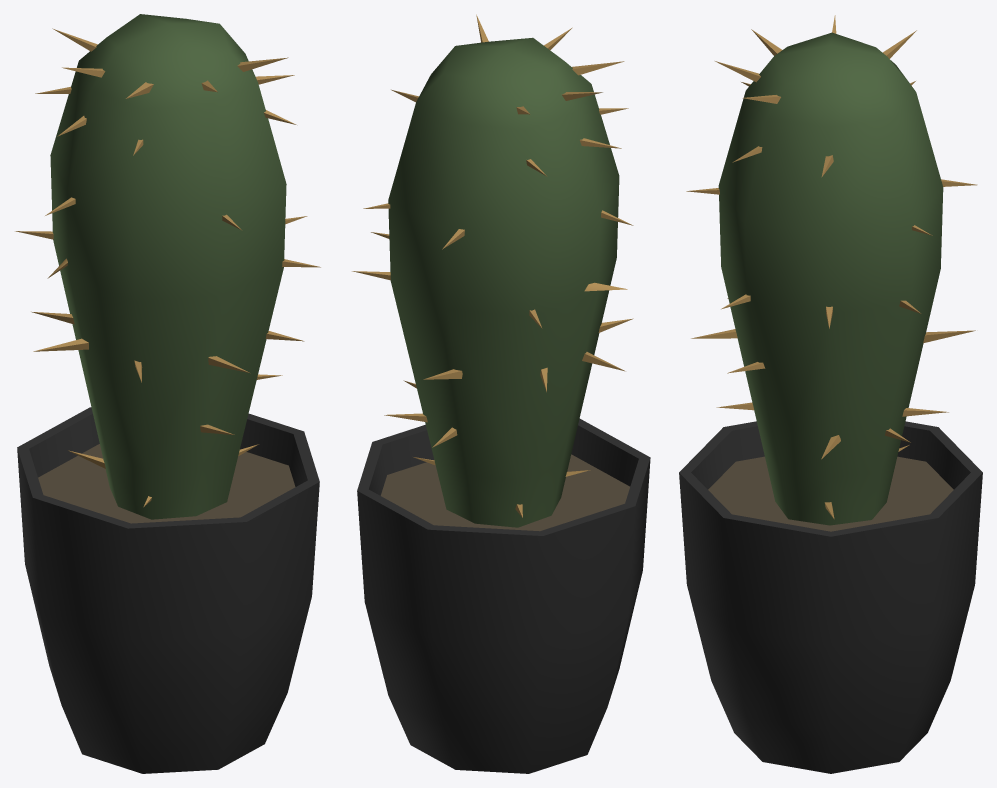
Rendered from Houseplant_3.gltf.
3 views of the same model, side by side, from view 1: azimuth 30°, elevation 25°; view 2: azimuth 150°, elevation 25°; view 3: azimuth 270°, elevation 25° (orthographic). The views are drawn at different scales.
Parts seen in each view (by area): view 1: Houseplant_3; view 2: Houseplant_3; view 3: Houseplant_3.
Part boxes in pixels (<box>): Houseplant_3: <box>15,14,320,773</box>; Houseplant_3: <box>352,14,650,773</box>; Houseplant_3: <box>679,15,982,773</box>.
Bounding box in the file's own units: 0.3426 × 0.8449 × 0.3383.
